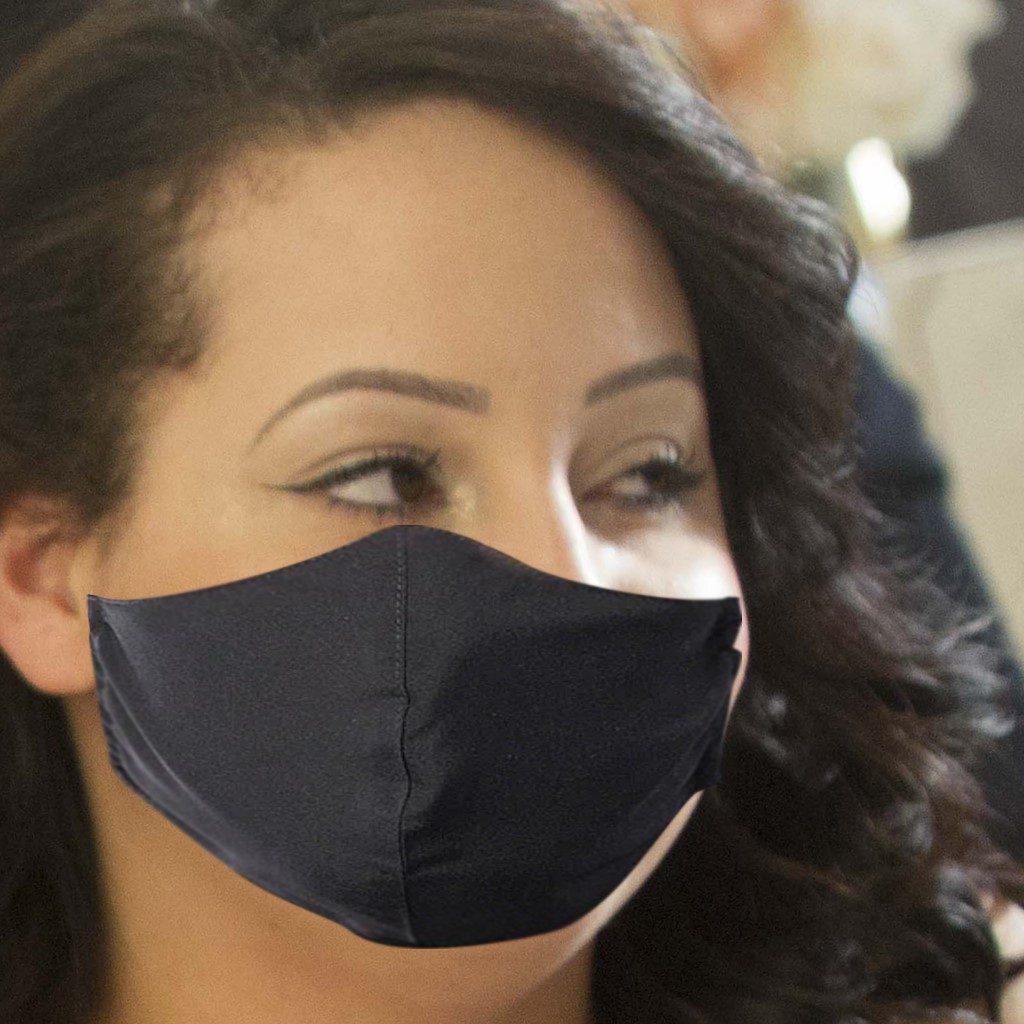con_mascara: (68, 73, 761, 941)
